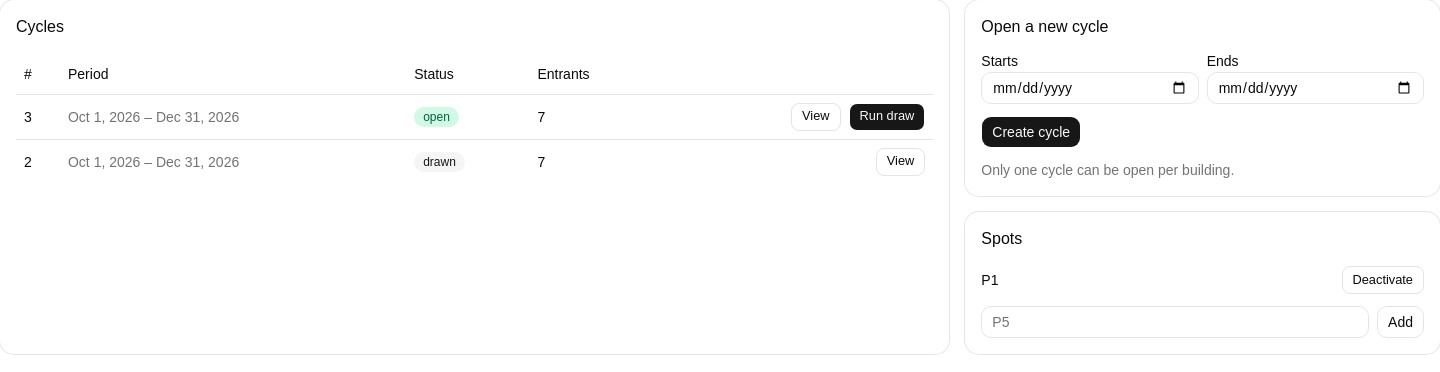
Test case: AdminView spot form › limits the label to the server's 20 characters
The width and height of the screenshot is (1440, 372).
Type "<script>alert(1)</script>" into the field named "New spot label" at [1175, 322], box [981,306,1369,338]
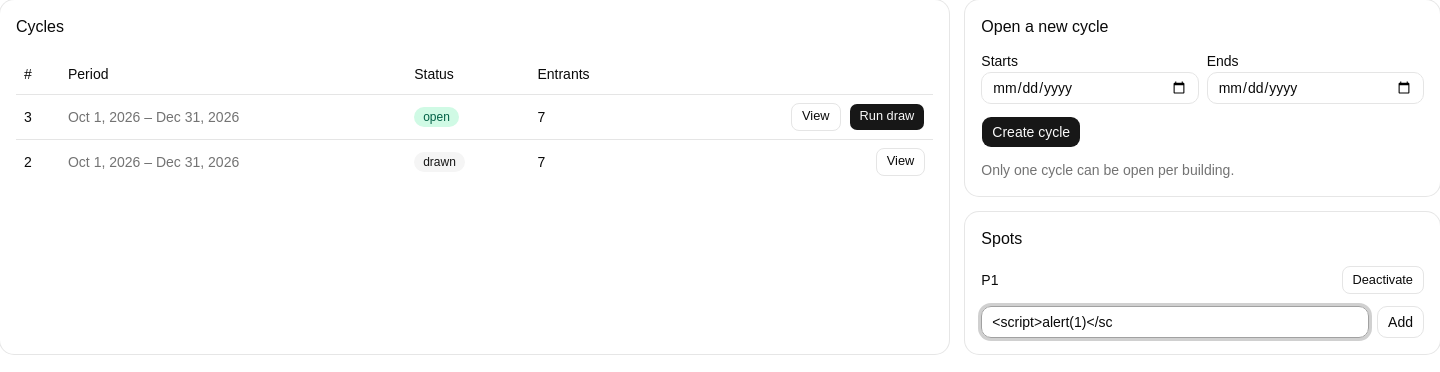
Expected: the field named "New spot label" holds "<script>alert(1)</sc", [981,306,1369,338]
